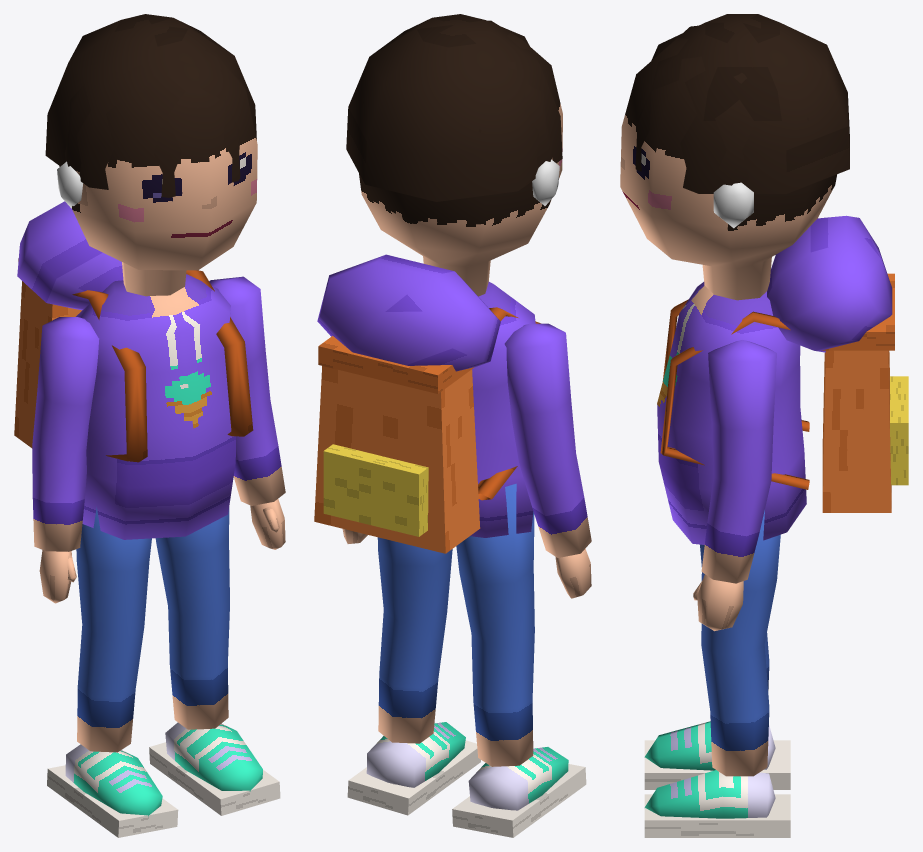
The model's file is Kid Hoodie.fbx.
The picture shows the model from 3 angles, left to right: view 1: azimuth 30°, elevation 25°; view 2: azimuth 150°, elevation 25°; view 3: azimuth 270°, elevation 25°; orthographic projection. The views are drawn at different scales.
Visible parts, largest first — view 1: Kid Hoodie torso, Kid Hoodie head, Kid Hoodie hair cap, Kid Hoodie leg R.001, Kid Hoodie arm R.001, Kid Hoodie leg L.001, Kid Hoodie arm L.001, Kid Hoodie hood, Kid Hoodie shoe L, Kid Hoodie shoe R, Kid Hoodie backpack.001, Kid Hoodie sole R (+6 smaller); view 2: Kid Hoodie hair cap, Kid Hoodie backpack.001, Kid Hoodie leg R.001, Kid Hoodie hood, Kid Hoodie arm R.001, Kid Hoodie head, Kid Hoodie leg L.001, Kid Hoodie torso, Kid Hoodie backpack pocket, Kid Hoodie shoe R, Kid Hoodie shoe L, Kid Hoodie sole R (+5 smaller); view 3: Kid Hoodie hair cap, Kid Hoodie head, Kid Hoodie torso, Kid Hoodie arm L.001, Kid Hoodie hood, Kid Hoodie leg L.001, Kid Hoodie backpack.001, Kid Hoodie shoe L, Kid Hoodie sole L, Kid Hoodie shoe R, Kid Hoodie sole R, Kid Hoodie backpack strap 1 (+5 smaller).
Part boxes in pixels (bbox=[...]): Kid Hoodie torso: bbox=[76, 274, 235, 539]; Kid Hoodie head: bbox=[59, 36, 257, 296]; Kid Hoodie hair cap: bbox=[45, 14, 256, 197]; Kid Hoodie leg R.001: bbox=[76, 507, 151, 752]; Kid Hoodie arm R.001: bbox=[32, 317, 99, 551]; Kid Hoodie leg L.001: bbox=[155, 507, 229, 729]; Kid Hoodie arm L.001: bbox=[209, 276, 285, 505]; Kid Hoodie hood: bbox=[17, 201, 123, 310]; Kid Hoodie shoe L: bbox=[165, 722, 262, 791]; Kid Hoodie shoe R: bbox=[65, 744, 162, 816]; Kid Hoodie backpack.001: bbox=[14, 281, 81, 448]; Kid Hoodie sole R: bbox=[47, 765, 178, 837]; Kid Hoodie hair cap: bbox=[346, 14, 562, 201]; Kid Hoodie backpack.001: bbox=[314, 366, 480, 553]; Kid Hoodie leg R.001: bbox=[456, 483, 534, 766]; Kid Hoodie hood: bbox=[317, 254, 500, 371]; Kid Hoodie arm R.001: bbox=[504, 323, 591, 557]; Kid Hoodie head: bbox=[359, 20, 562, 296]; Kid Hoodie leg L.001: bbox=[377, 537, 452, 743]; Kid Hoodie torso: bbox=[470, 281, 535, 537]; Kid Hoodie backpack pocket: bbox=[323, 444, 428, 536]; Kid Hoodie shoe R: bbox=[468, 747, 568, 810]; Kid Hoodie shoe L: bbox=[366, 722, 465, 787]; Kid Hoodie sole R: bbox=[452, 764, 586, 837]; Kid Hoodie hair cap: bbox=[635, 14, 849, 193]; Kid Hoodie head: bbox=[620, 25, 836, 300]; Kid Hoodie torso: bbox=[657, 282, 806, 544]; Kid Hoodie arm L.001: bbox=[701, 340, 776, 583]; Kid Hoodie hood: bbox=[767, 215, 892, 352]; Kid Hoodie leg L.001: bbox=[700, 510, 780, 776]; Kid Hoodie backpack.001: bbox=[822, 350, 891, 512]; Kid Hoodie shoe L: bbox=[644, 770, 775, 818]; Kid Hoodie sole L: bbox=[644, 794, 790, 837]; Kid Hoodie shoe R: bbox=[644, 721, 775, 770]; Kid Hoodie sole R: bbox=[644, 740, 790, 789]; Kid Hoodie backpack strap 1: bbox=[660, 311, 809, 489].
Bounding box in the file's own units: 0.4116 × 1.24 × 0.4185.
Materials: 15 (14 with a texture image).
